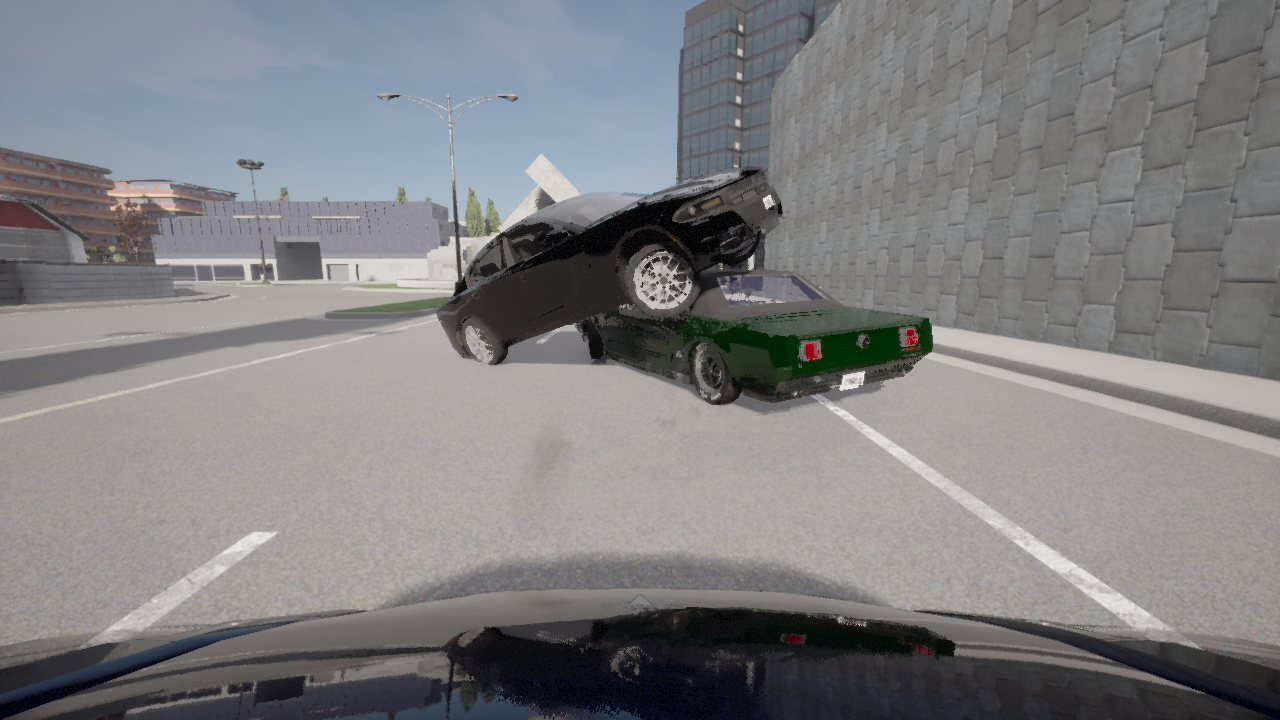cyclist: (0, 588, 1279, 719), (434, 166, 785, 364), (574, 269, 931, 403), (709, 263, 748, 269)
